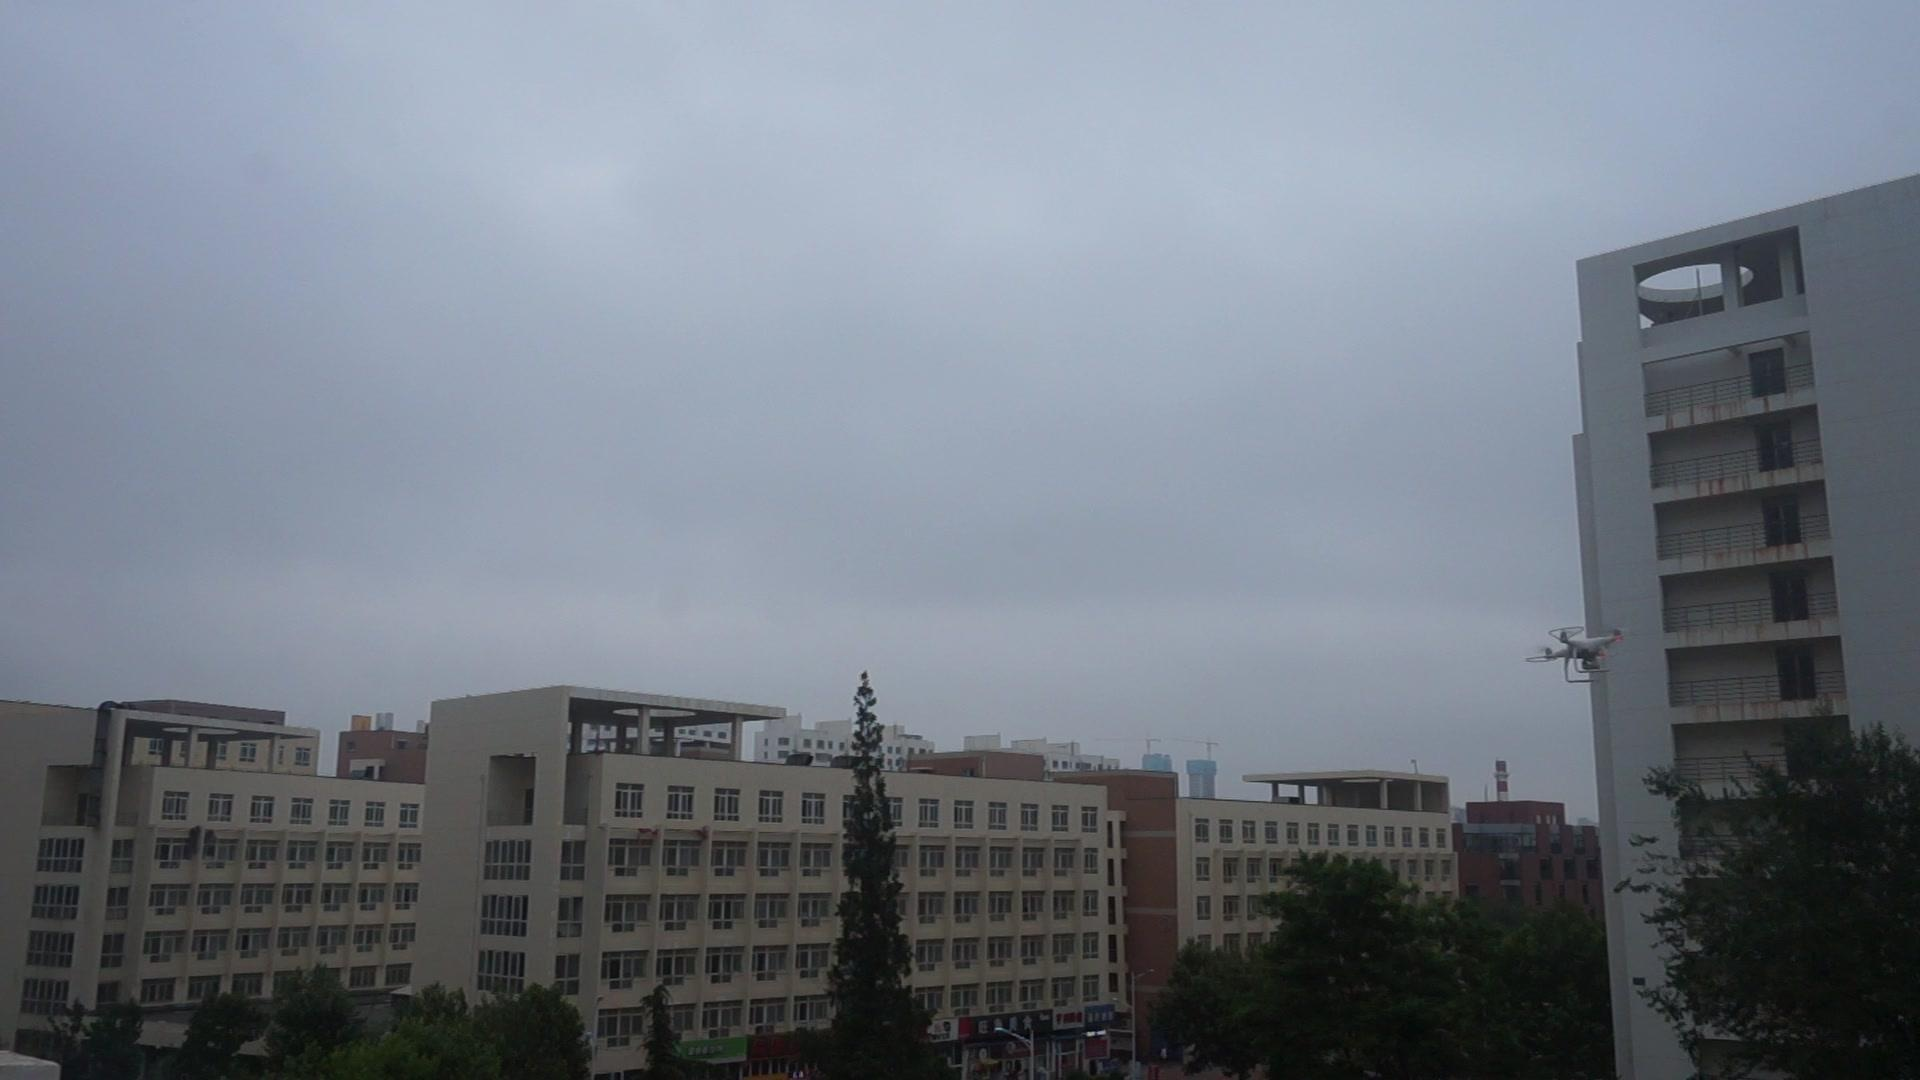UAV: (1524, 626, 1626, 683)
